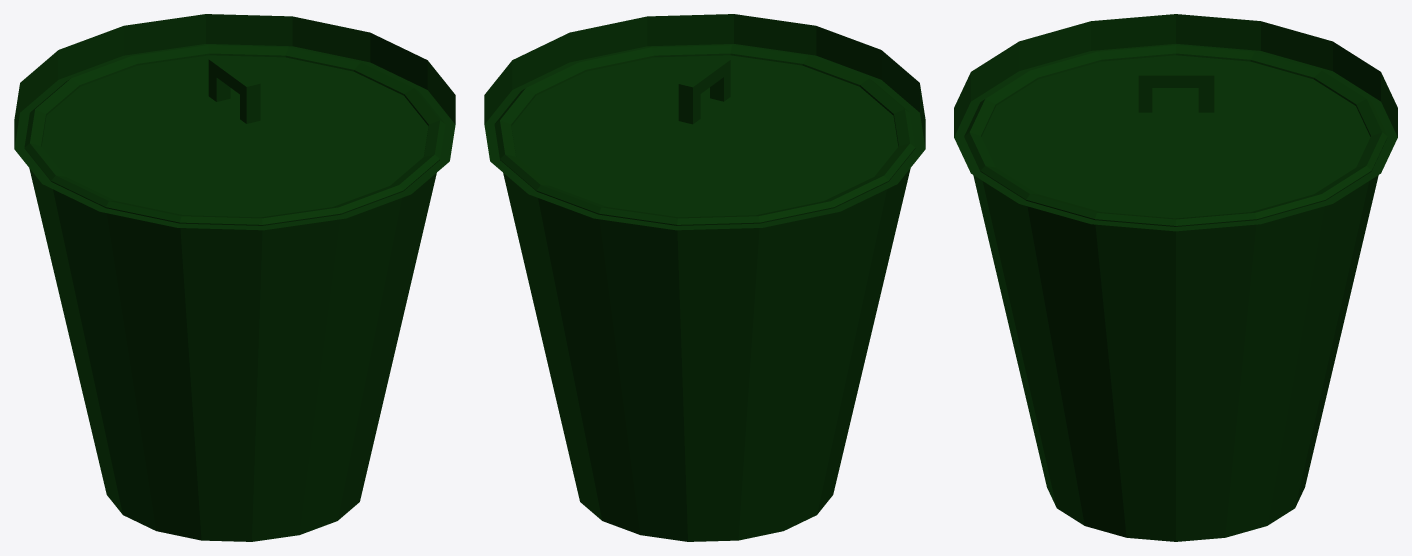
File: Thung rac.fbx
The picture shows the model from 3 angles, left to right: view 1: azimuth 30°, elevation 25°; view 2: azimuth 150°, elevation 25°; view 3: azimuth 270°, elevation 25°; orthographic projection.
Visible parts, largest first — view 1: Cube; view 2: Cube; view 3: Cube.
Boxes of the visible parts, x1,y1,x2,y2 form: Cube: (14, 14, 455, 541); Cube: (484, 14, 925, 541); Cube: (954, 14, 1397, 541).
Bounding box in the file's own units: 228 × 235 × 228.
